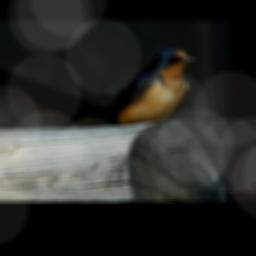Swallow: (51, 48, 197, 127)
